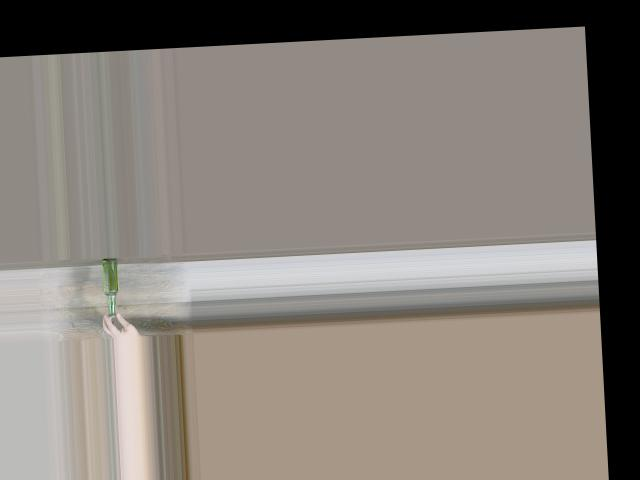beer: (101, 257, 119, 317)
